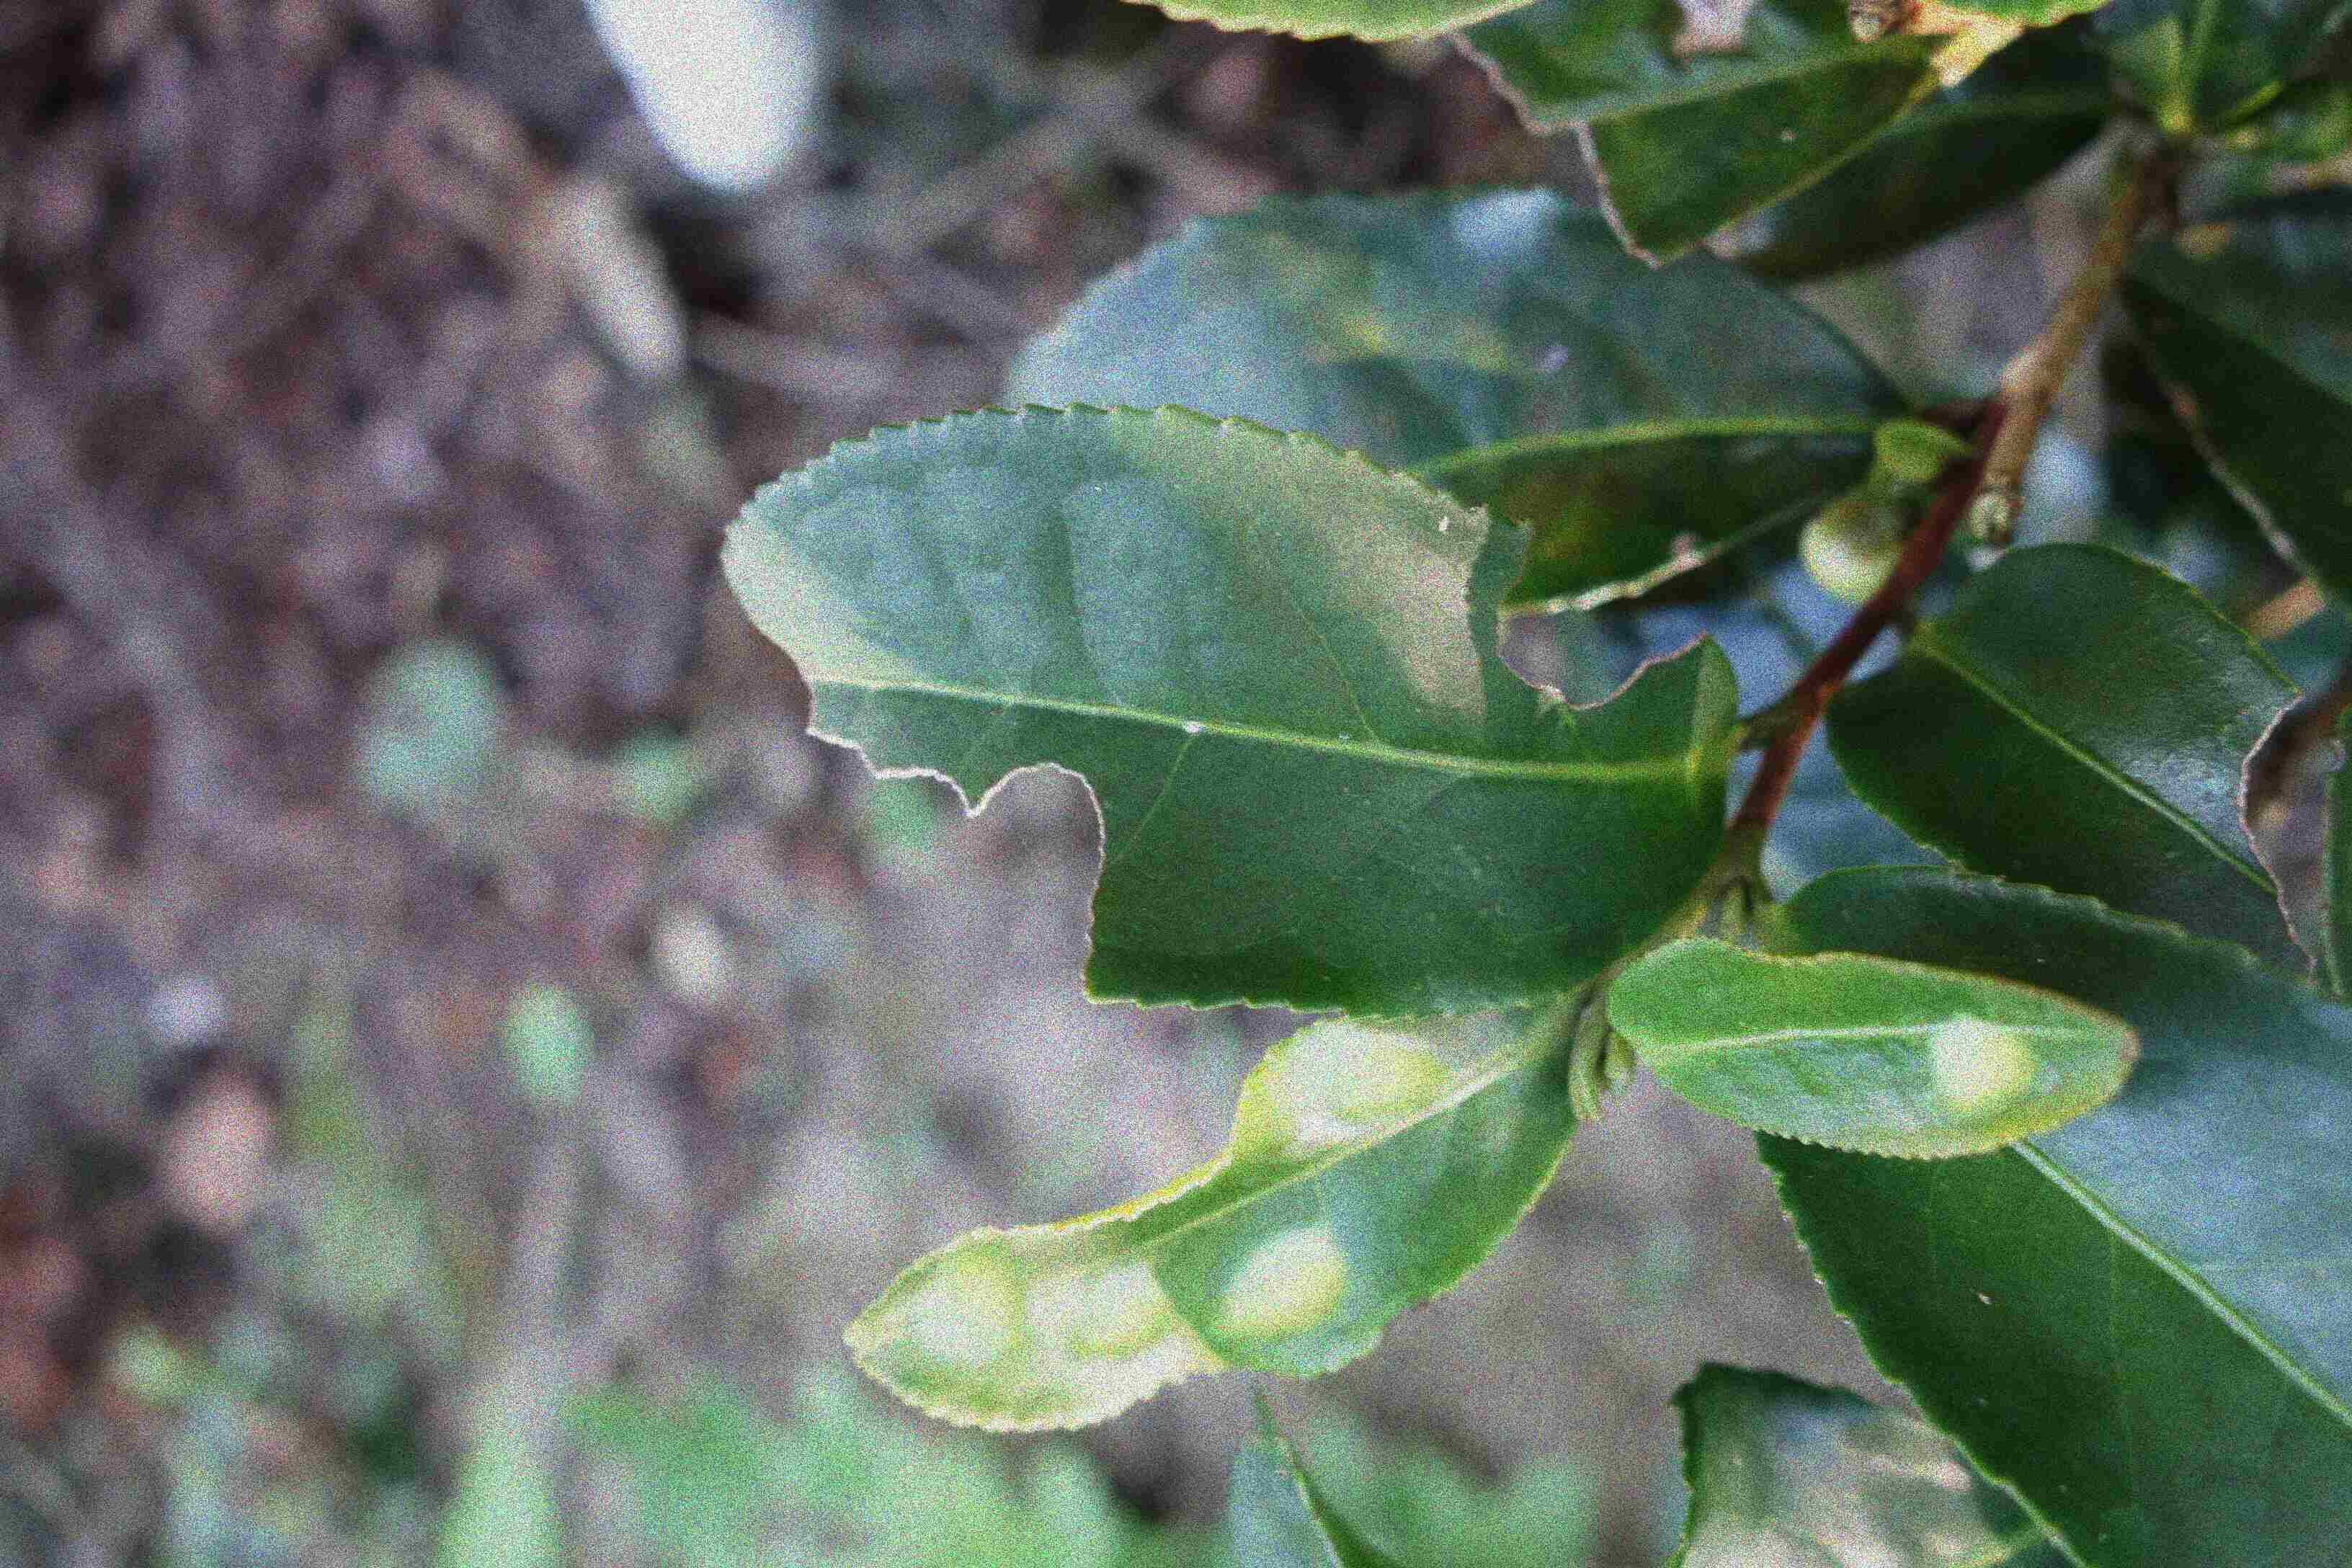chabing_high: (836, 1006, 1610, 1435)
chabing_low: (1603, 934, 2142, 1158)
chihuo_high: (721, 404, 1748, 1024)
chihuo_low: (1829, 541, 2313, 952)
